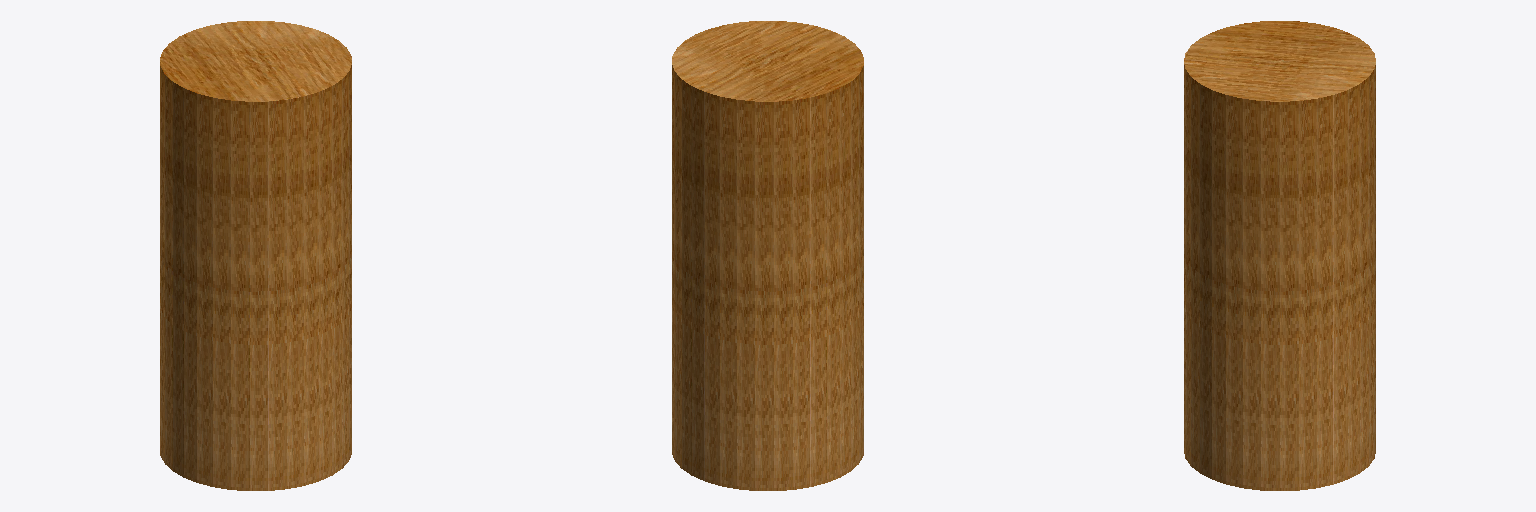
3 renders of one model, left to right at view 1: azimuth 30°, elevation 25°; view 2: azimuth 150°, elevation 25°; view 3: azimuth 270°, elevation 25°, orthographic.
Parts seen in each view (by area): view 1: Cylinder; view 2: Cylinder; view 3: Cylinder.
Part boxes in pixels (left/top/right/bottom): Cylinder: left=160, top=21, right=351, bottom=490; Cylinder: left=672, top=21, right=863, bottom=490; Cylinder: left=1184, top=21, right=1375, bottom=490.
Bounding box in the file's own units: 1.31 × 2.92 × 1.31.
Materials: 1 (1 with a texture image).